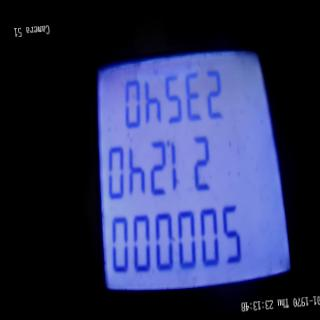screen: (77, 15, 301, 320)
